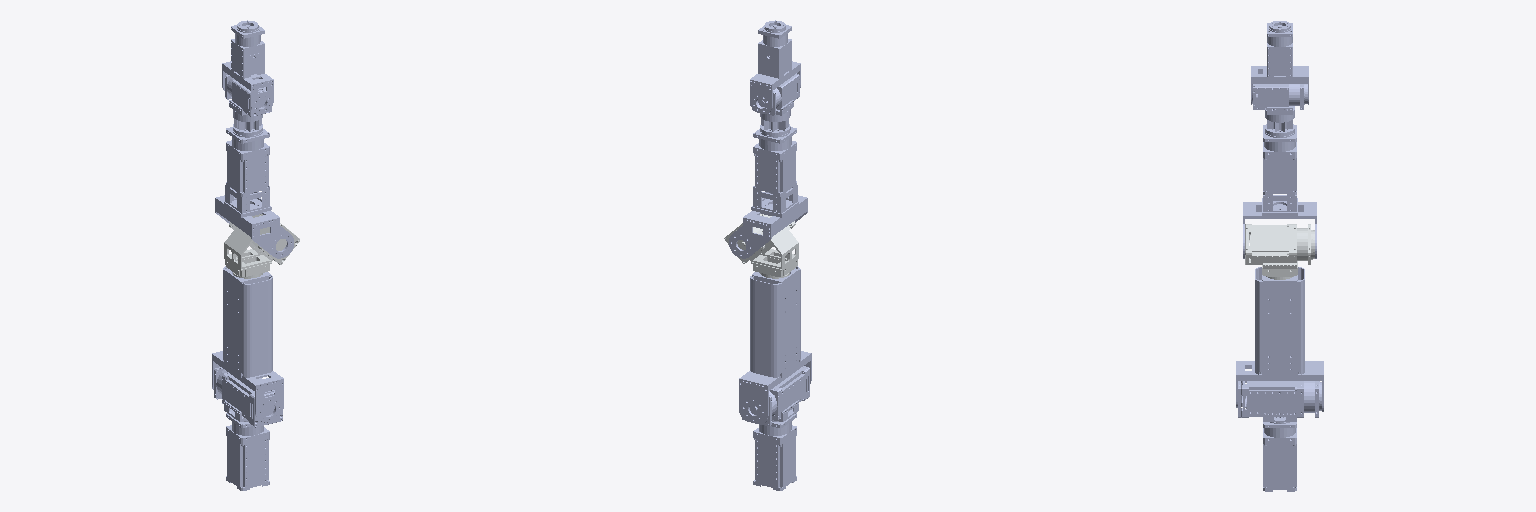
The robot description file, URDF, robot "pro7a":
<?xml version="1.0" ?>

<robot name="pro7a" xmlns:xacro="http://www.ros.org/wiki/xacro">

  <!-- ros_control plugin -->
  <gazebo>
    <plugin name="gazebo_ros_control" filename="libgazebo_ros_control.so">
      <robotNamespace>/robotis_pro7a</robotNamespace>
      <robotSimType>gazebo_ros_control/DefaultRobotHWSim</robotSimType>
    </plugin>
  </gazebo>

  <!-- World -->
  <gazebo reference="world" />

  <!-- Link1 -->
  <gazebo reference="link1">
    <mu1>0.2</mu1>
    <mu2>0.2</mu2>
    <material>Gazebo/Grey</material>
  </gazebo>

  <!-- Link2 -->
  <gazebo reference="link2">
    <mu1>0.2</mu1>
    <mu2>0.2</mu2>
    <material>Gazebo/Grey</material>
  </gazebo>

  <!-- Link3 -->
  <gazebo reference="link3">
    <mu1>0.2</mu1>
    <mu2>0.2</mu2>
    <material>Gazebo/Grey</material>
  </gazebo>

  <!-- Link4 -->
  <gazebo reference="link4">
    <mu1>0.2</mu1>
    <mu2>0.2</mu2>
    <material>Gazebo/Grey</material>
  </gazebo>

  <!-- Link5 -->
  <gazebo reference="link5">
    <mu1>0.2</mu1>
    <mu2>0.2</mu2>
    <material>Gazebo/Grey</material>
  </gazebo>

  <!-- Link6 -->
  <gazebo reference="link6">
    <mu1>0.2</mu1>
    <mu2>0.2</mu2>
    <material>Gazebo/Grey</material>
  </gazebo>

  <!-- Link7 -->
  <gazebo reference="link7">
    <mu1>0.2</mu1>
    <mu2>0.2</mu2>
    <material>Gazebo/Grey</material>
  </gazebo>

  <!-- world -->
  <link name="world" />

  <joint name="world_fixed" type="fixed">
    <origin xyz="0 0 0" rpy="0 0 0"/>
    <parent link="world"/>
    <child link="link1"/>
  </joint>
  
  <!-- link 1 -->
  <link name="link1">
    <inertial>
      <!--<origin xyz="0.00023037 4.1147E-06 0.062192" rpy="0 0 0" />-->
      <origin xyz="0.0 0.0 0.0" rpy="0 0 0" />
      <mass value="0.3236" />
      <inertia ixx="0.002" ixy="0.0" ixz="0.0" iyy="0.002" iyz="0.0" izz="0.002"/>
    </inertial>
    <visual>
      <origin xyz="0 0 0" rpy="0 0 0" />
      <geometry>
        <mesh filename="package://iclab7a_description/meshes/link1.STL" />
      </geometry>
      <material name="">
        <color rgba="0.79216 0.81961 0.93333 1" />
      </material>
    </visual>
    <collision>
      <origin xyz="0 0 0" rpy="0 0 0" />
      <geometry>
        <mesh filename="package://iclab7a_description/meshes/link1.STL" />
      </geometry>
    </collision>
  </link>

  <!-- joint 1 -->
  <joint name="joint1" type="revolute">
    <origin xyz="0 0 0.126" rpy="0 0 0" />
    <parent link="link1" />
    <child link="link2" />
    <axis xyz="0 0 1" />
    <limit effort="1000" lower="-2.094395102" upper="2.094395102" velocity="6.5"/>
    <dynamics damping="0.7"/>
  </joint>

  <transmission name="tran1">
    <type>transmission_interface/SimpleTransmission</type>
    <joint name="joint1">
      <hardwareInterface>EffortJointInterface</hardwareInterface>
    </joint>
    <actuator name="motor1">
      <hardwareInterface>EffortJointInterface</hardwareInterface>
      <mechanicalReduction>1</mechanicalReduction>
    </actuator>
  </transmission>

  <!-- link 2 -->
  <link name="link2">
    <inertial>
      <origin xyz="0.0 0.0 0.0" rpy="0 0 0" />
      <mass value="0.353299691884094" />
      <inertia ixx="0.002" ixy="0.0" ixz="0.0" iyy="0.002" iyz="0.0" izz="0.002"/>
    </inertial>
    <visual>
      <origin xyz="0 0 0" rpy="0 0 0" />
      <geometry>
        <mesh filename="package://iclab7a_description/meshes/link2.STL" />
      </geometry>
      <material name="">
        <color rgba="0.792156862745098 0.819607843137255 0.933333333333333 1" />
      </material>
    </visual>
    <collision>
      <origin xyz="0 0 0" rpy="0 0 0" />
      <geometry>
        <mesh filename="package://iclab7a_description/meshes/link2.STL" />
      </geometry>
    </collision>
  </link>

  <!-- joint 2 -->
  <joint name="joint2" type="revolute">
    <origin xyz="0 -0.072 0.033" rpy="0 0 0" />
    <parent link="link2" />
    <child link="link3" />
    <axis xyz="0 1 0" />
    <limit effort="1000" lower="-1.570796327" upper="1.570796327" velocity="6.5"/>
    <dynamics damping="0.7"/>
  </joint>

  <transmission name="tran2">
    <type>transmission_interface/SimpleTransmission</type>
    <joint name="joint2">
      <hardwareInterface>EffortJointInterface</hardwareInterface>
    </joint>
    <actuator name="motor2">
      <hardwareInterface>EffortJointInterface</hardwareInterface>
      <mechanicalReduction>1</mechanicalReduction>
    </actuator>
  </transmission>

  <!-- link 3 -->
  <link name="link3">
    <inertial>
      <origin xyz="0.000134697491530555 0.0724327934527482 0.121867308112064" rpy="0 0 0" />
      <mass value="0.500115096713792" />
      <inertia ixx="0.002" ixy="0.0" ixz="0.0" iyy="0.002" iyz="0.0" izz="0.002"/>
    </inertial>
    <visual>
      <origin xyz="0 0 0" rpy="0 0 0" />
      <geometry>
        <mesh filename="package://iclab7a_description/meshes/link3.STL" />
      </geometry>
      <material name="">
        <color rgba="0.792156862745098 0.819607843137255 0.933333333333333 1" />
      </material>
    </visual>
    <collision>
      <origin xyz="0 0 0" rpy="0 0 0" />
      <geometry>
        <mesh filename="package://iclab7a_description/meshes/link3.STL" />
      </geometry>
    </collision>
  </link>

  <!-- joint 3 -->
  <joint name="joint3" type="revolute">
    <!--<origin xyz="0 0.0720000000000061 0.19331679485759" rpy="0 0 0" />-->
    <origin xyz="0 0.072 0.1933" rpy="0 0 0" />
    <parent link="link3" />
    <child link="link4" />
    <axis xyz="0 0 1" />
    <limit effort="1000" lower="-2.094395102" upper="2.094395102" velocity="6.5"/>
    <dynamics damping="0.7"/>
  </joint>

 <transmission name="tran3">
    <type>transmission_interface/SimpleTransmission</type>
    <joint name="joint3">
      <hardwareInterface>EffortJointInterface</hardwareInterface>
    </joint>
    <actuator name="motor3">
      <hardwareInterface>EffortJointInterface</hardwareInterface>
      <mechanicalReduction>1</mechanicalReduction>
    </actuator>
  </transmission>

  <!-- link 4 -->
  <link name="link4">
    <inertial>
      <origin xyz="0.0 0.0 0.0" rpy="0 0 0" />
      <mass value="0.494453076498356" />
      <inertia ixx="0.002" ixy="0.0" ixz="0.0" iyy="0.002" iyz="0.0" izz="0.002"/>
    </inertial>
    <visual>
      <origin xyz="0 0 0" rpy="0 0 0" />
      <geometry>
        <mesh filename="package://iclab7a_description/meshes/link4.STL" />
      </geometry>
      <material name="">
        <color rgba="0.894117647058823 0.913725490196078 0.929411764705882 1" />
      </material>
    </visual>
    <collision>
      <origin xyz="0 0 0" rpy="0 0 0" />
      <geometry>
        <mesh filename="package://iclab7a_description/meshes/link4.STL" />
      </geometry>
    </collision>
  </link>

  <!-- joint 4 -->
  <joint name="joint4" type="revolute">
    <!--<origin xyz="0.0299999998726757 -0.0600000000000077 0.0929999930015371" rpy="4.09444829912538E-16 -1.51509034294625E-31 -1.75554406335096E-14" />-->
    <origin xyz="0.03 -0.060 0.093" rpy="0.0 0.0 0.0" />
    <parent link="link4" />
    <child link="link5" />
    <axis xyz="0 -1 0" />
    <limit effort="1000" lower="-3.141592654" upper="0.65" velocity="6.5"/>
    <dynamics damping="0.7"/>
  </joint>

  <transmission name="tran4">
    <type>transmission_interface/SimpleTransmission</type>
    <joint name="joint4">
      <hardwareInterface>EffortJointInterface</hardwareInterface>
    </joint>
    <actuator name="motor4">
      <hardwareInterface>EffortJointInterface</hardwareInterface>
      <mechanicalReduction>1</mechanicalReduction>
    </actuator>
  </transmission>

  <!-- link 5 -->
  <link name="link5">
    <inertial>
      <origin xyz="-0.0294640844960397 0.0600725360047954 0.118569552558269" rpy="0 0 0" />
      <mass value="0.355062206783252" />
      <inertia ixx="0.002" ixy="0.0" ixz="0.0" iyy="0.002" iyz="0.0" izz="0.002"/>
    </inertial>
    <visual>
      <origin xyz="0 0 0" rpy="0 0 0" />
      <geometry>
        <mesh filename="package://iclab7a_description/meshes/link5.STL" />
      </geometry>
      <material name="">
        <color rgba="0.792156862745098 0.819607843137255 0.933333333333333 1" />
      </material>
    </visual>
    <collision>
      <origin xyz="0 0 0" rpy="0 0 0" />
      <geometry>
        <mesh filename="package://iclab7a_description/meshes/link5.STL" />
      </geometry>
    </collision>
  </link>

  <!-- joint 5 -->
  <joint name="joint5" type="revolute">
    <!--<origin xyz="-0.0300000000000022 0.0600000000000028 0.195000000000001" rpy="-4.09444829912538E-16 7.33949343852163E-30 1.75554406335096E-14" />-->
    <origin xyz="-0.03 0.06 0.195" rpy="0 0 0" />
    <parent link="link5" />
    <child link="link6" />
    <axis xyz="0 0 1" />
    <limit effort="1000" lower="-2.094395102" upper="2.094395102" velocity="6.5"/>
    <dynamics damping="0.7"/>
  </joint>

  <transmission name="tran5">
    <type>transmission_interface/SimpleTransmission</type>
    <joint name="joint5">
      <hardwareInterface>EffortJointInterface</hardwareInterface>
    </joint>
    <actuator name="motor5">
      <hardwareInterface>EffortJointInterface</hardwareInterface>
      <mechanicalReduction>1</mechanicalReduction>
    </actuator>
  </transmission>

  <!-- link 6 -->
  <link name="link6">
    <inertial>
      <origin xyz="0 -0.001 0.0506" rpy="0 0 0" />
      <mass value="0.200934163479789" />
      <inertia ixx="0.002" ixy="0.0" ixz="0.0" iyy="0.002" iyz="0.0" izz="0.002"/>
    </inertial>
    <visual>
      <origin xyz="0 0 0" rpy="0 0 0" />
      <geometry>
        <mesh filename="package://iclab7a_description/meshes/link6.STL" />
      </geometry>
      <material name="">
        <color rgba="0.792156862745098 0.819607843137255 0.933333333333333 1" />
      </material>
    </visual>
    <collision>
      <origin xyz="0 0 0" rpy="0 0 0" />
      <geometry>
        <mesh filename="package://iclab7a_description/meshes/link6.STL" />
      </geometry>
    </collision>
  </link>

  <!-- joint 6 -->
  <joint name="joint6" type="revolute">
    <!--<origin xyz="0 -0.0479999999999998 0.0630000000000001" rpy="0 0 0" />-->
    <origin xyz="0 -0.048 0.063" rpy="0 0 0" />
    <parent link="link6" />
    <child link="link7" />
    <axis xyz="0 -1 0" />
    <limit effort="1000" lower="-1.570796327" upper="1.570796327" velocity="6.5"/>
    <dynamics damping="0.7"/>
  </joint>

  <transmission name="tran6">
    <type>transmission_interface/SimpleTransmission</type>
    <joint name="joint6">
      <hardwareInterface>EffortJointInterface</hardwareInterface>
    </joint>
    <actuator name="motor6">
      <hardwareInterface>EffortJointInterface</hardwareInterface>
      <mechanicalReduction>1</mechanicalReduction>
    </actuator>
  </transmission>

  <!-- link 7 -->
  <link name="link7">
    <inertial>
      <origin xyz="0.0 0.04836 0.06852" rpy="0 0 0" />
      <mass value="0.162169114093039" />
      <inertia ixx="0.002" ixy="0.0" ixz="0.0" iyy="0.002" iyz="0.0" izz="0.002"/>
    </inertial>
    <visual>
      <origin xyz="0 0 0" rpy="0 0 0" />
      <geometry>
        <mesh filename="package://iclab7a_description/meshes/link7.STL" />
      </geometry>
      <material name="">
        <color rgba="0.792156862745098 0.819607843137255 0.933333333333333 1" />
      </material>
    </visual>
    <collision>
      <origin xyz="0 0 0" rpy="0 0 0" />
      <geometry>
        <mesh filename="package://iclab7a_description/meshes/link7.STL" />
      </geometry>
    </collision>
  </link>

</robot>

--- Facts derived from the render (not from the file) ---
Views: 3 orthographic renders of the robot side by side, from view 1: azimuth 30°, elevation 25°; view 2: azimuth 150°, elevation 25°; view 3: azimuth 270°, elevation 25°.
Robot: pro7a — 8 links, 7 joints (6 revolute, 1 fixed); root link world; default pose: all joints at 0.
Visible links, largest first — view 1: link3, link5, link7, link1, link4, link2, link6; view 2: link3, link5, link7, link1, link4, link2, link6; view 3: link3, link5, link4, link2, link1, link7, link6.
Boxes of the visible links, x1,y1,x2,y2 form: link3: (212,266,283,419); link5: (215,127,293,258); link7: (222,20,273,113); link1: (226,413,269,490); link4: (224,214,299,278); link2: (214,367,282,427); link6: (225,75,271,135); link3: (739,266,811,424); link5: (729,127,807,258); link7: (750,20,800,113); link1: (753,413,796,490); link4: (724,214,798,278); link2: (742,366,809,425); link6: (752,73,799,135); link3: (1236,267,1323,411); link5: (1243,125,1316,258); link4: (1245,224,1314,279); link2: (1238,381,1321,421); link1: (1263,422,1296,491); link7: (1251,21,1308,104); link6: (1252,84,1307,135).
Size in the robot's own frame: 0.0968 by 0.144 by 0.8263 metres.
7 mesh visuals loaded from 7 distinct referenced files (7 binary STL).
